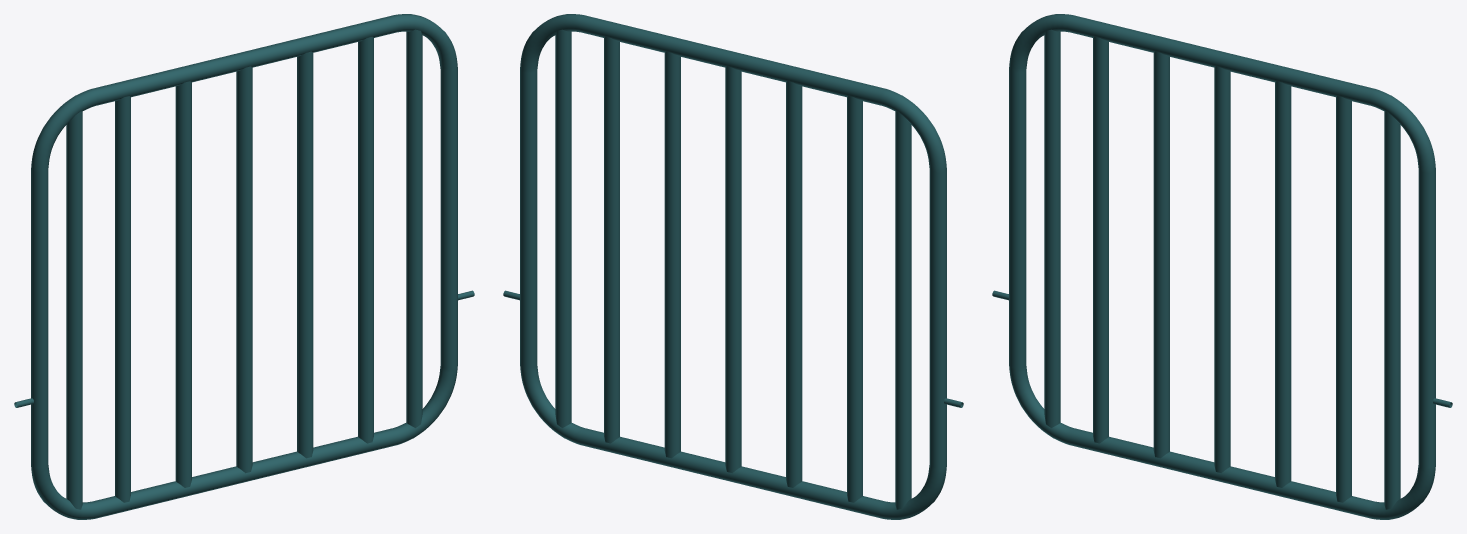
Rendered from CellarDoorQuest.fbx.
The picture shows the model from 3 angles, left to right: view 1: azimuth 30°, elevation 25°; view 2: azimuth 150°, elevation 25°; view 3: azimuth 330°, elevation 25°; orthographic projection.
Visible parts, largest first — view 1: Board03; view 2: Board03; view 3: Board03.
Part boxes in pixels (x1=…): Board03: x1=14, y1=14, x2=474, y2=519; Board03: x1=503, y1=14, x2=963, y2=519; Board03: x1=992, y1=14, x2=1452, y2=519.
Size of the model in its own units: 194 by 173 by 5.99.
